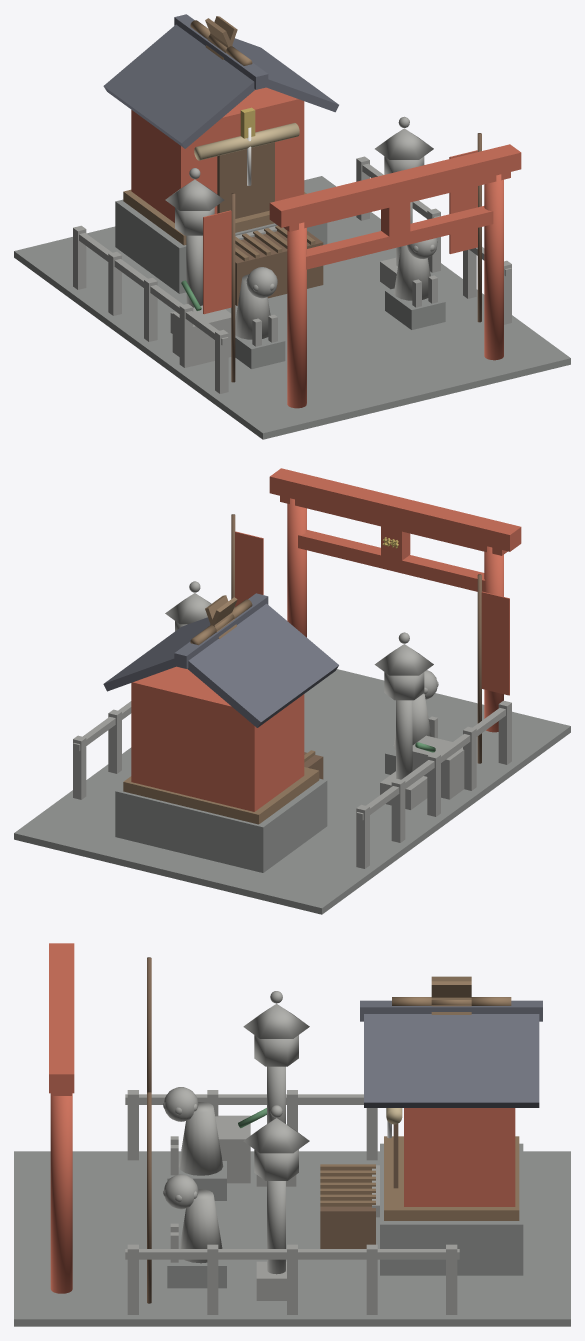
The model's file is prop_jinja_chinju.glb.
3 renders of one model, top to bottom at view 1: azimuth 30°, elevation 25°; view 2: azimuth 150°, elevation 25°; view 3: azimuth 270°, elevation 25°, orthographic. The views are drawn at different scales.
Visible parts, largest first — view 1: jinja_chinju; view 2: jinja_chinju; view 3: jinja_chinju.
Boxes of the visible parts, x1,y1,x2,y2 form: jinja_chinju: [14, 14, 570, 439]; jinja_chinju: [14, 468, 570, 914]; jinja_chinju: [14, 943, 570, 1326].
Size of the model in its own units: 5 by 3.65 by 7.
